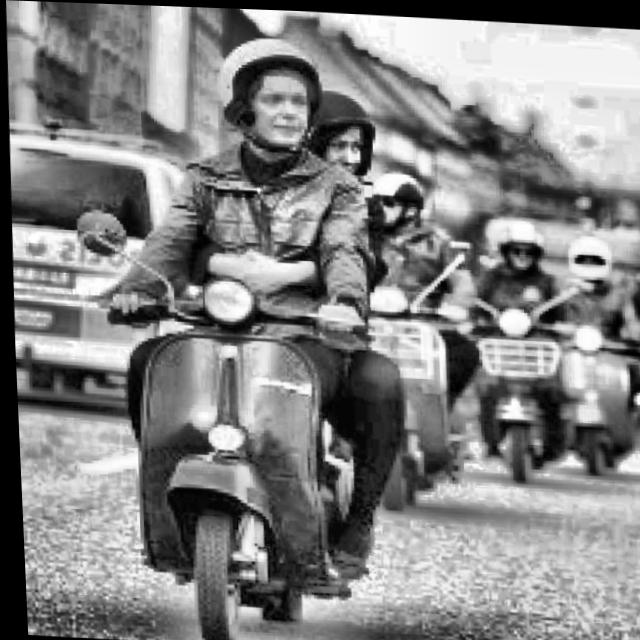motorcycle: (64, 201, 421, 640), (308, 224, 495, 509), (448, 261, 581, 475), (543, 308, 640, 476)
